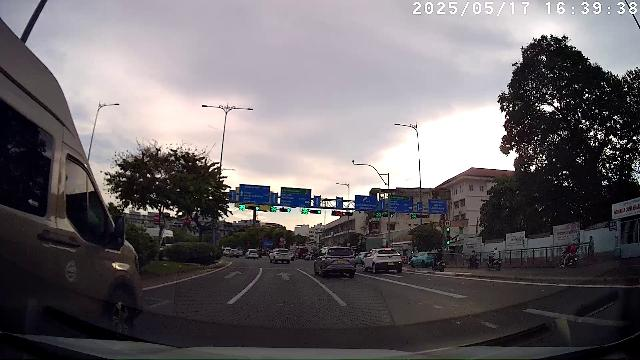124a-cam-quay-dau-xe: (444, 220, 451, 228)
